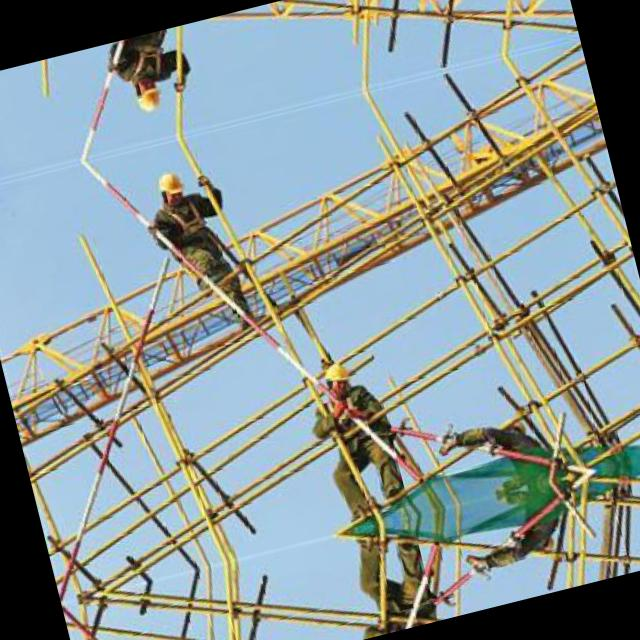helmet: (150, 162, 188, 208), (128, 73, 166, 119), (319, 358, 353, 398), (496, 410, 528, 442), (526, 531, 558, 563)
